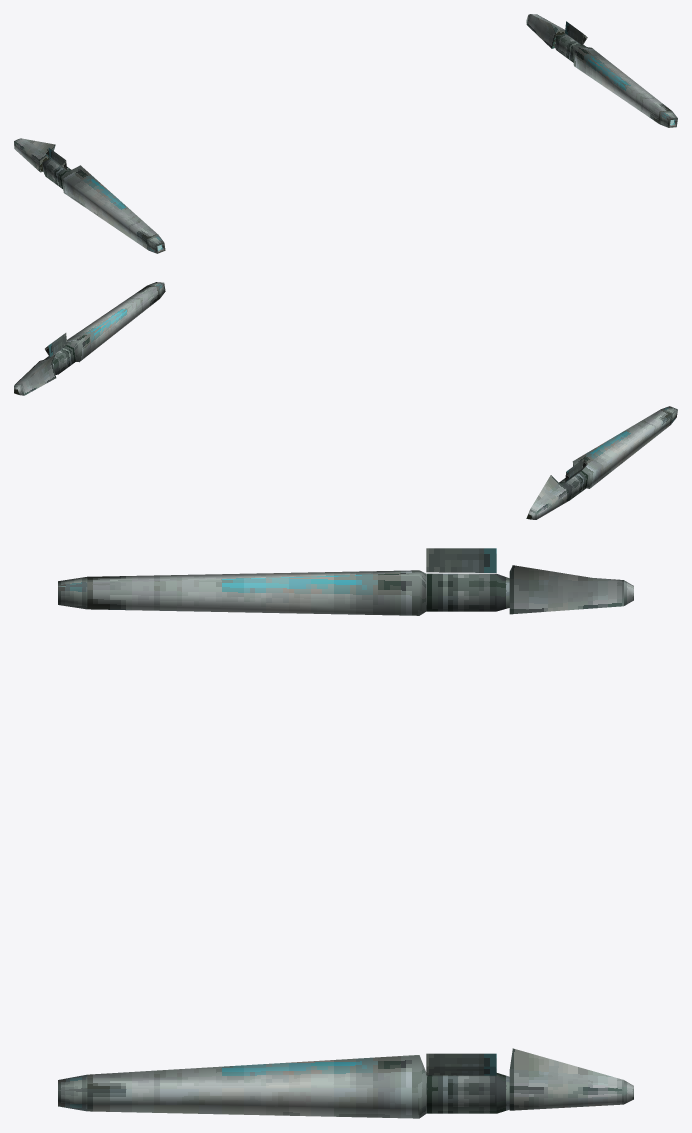
Rendered from hutt_fighter_medium_weapon1_s02_l2.fbx.
3 views of the same model, one above another, from view 1: azimuth 30°, elevation 25°; view 2: azimuth 150°, elevation 25°; view 3: azimuth 270°, elevation 25° (orthographic). The views are drawn at different scales.
Parts seen in each view (by area): view 1: mesh_node; view 2: mesh_node; view 3: mesh_node.
Part boxes in pixels (left/top/right/bottom): mesh_node: left=14, top=14, right=677, bottom=253; mesh_node: left=14, top=282, right=677, bottom=519; mesh_node: left=58, top=548, right=633, bottom=1118.
Size of the model in its own units: 13.77 by 0.7581 by 6.48.
1 material, 1 textured.
